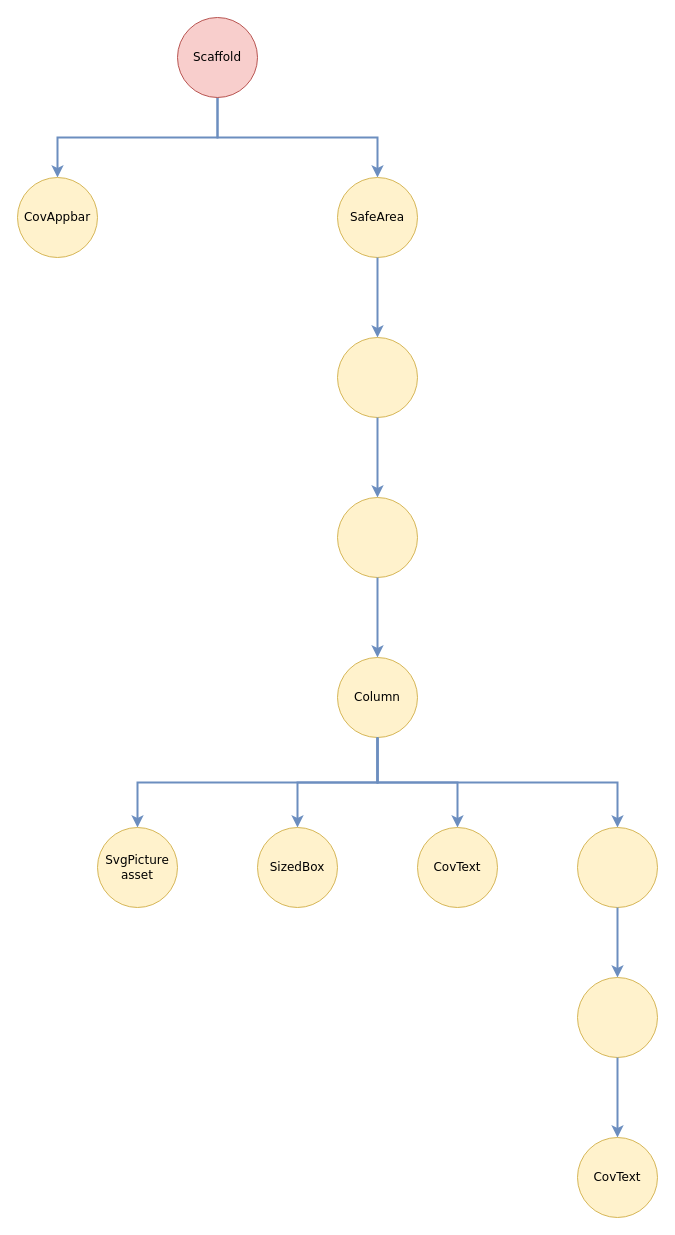
Image size: 675x1235. Some labels were removed from this diagram. The shapes that lost their labels are listed below. From the top down, each one's box as (x1, y1, x2, y2) in pixels, then its label:
(336, 336, 418, 418): Container
(336, 496, 418, 578): EdgeInsets fromLTRB
(576, 826, 658, 908): Padding
(576, 976, 658, 1058): EdgeInsets Symmetric
